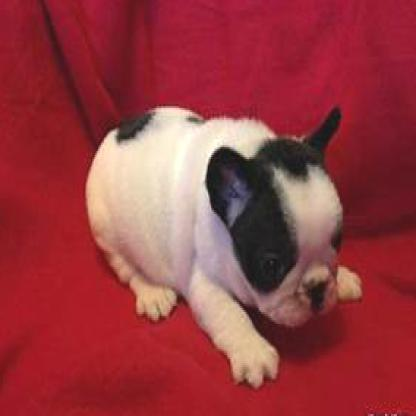dog: (86, 106, 362, 388)
